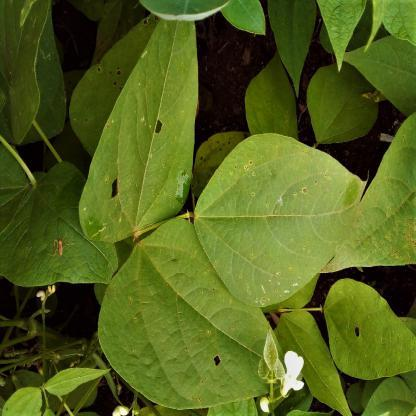Beans_Rust: (100, 220, 292, 404), (198, 131, 366, 302), (80, 9, 204, 228), (332, 107, 416, 263)
